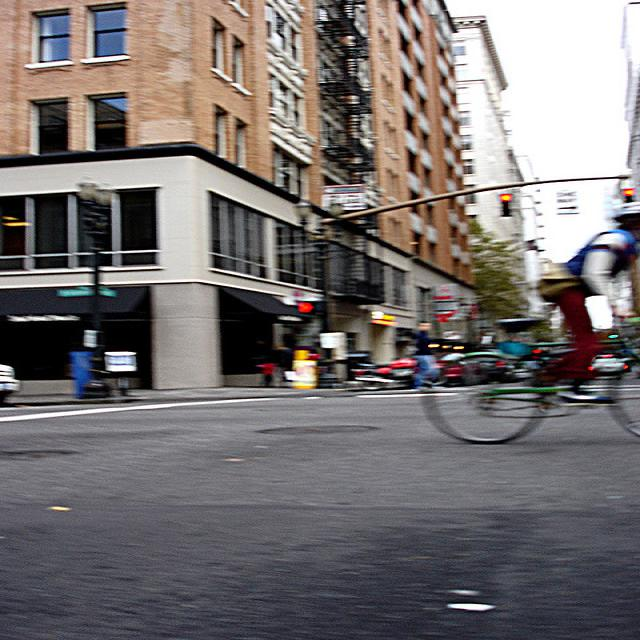motor: (349, 357, 422, 391)
